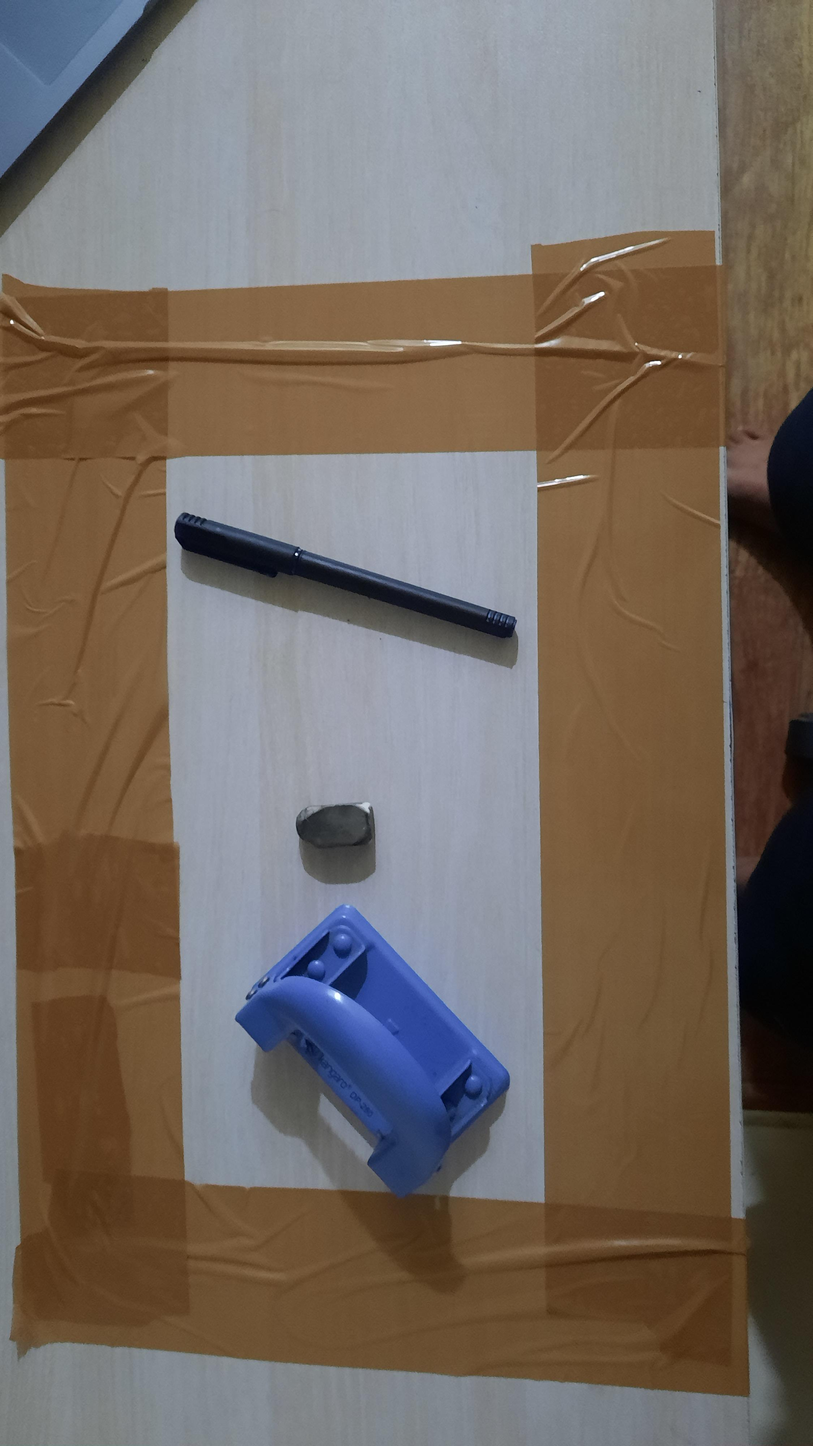Eraser: (295, 801, 375, 851)
Pen: (173, 512, 517, 638)
Punch: (233, 904, 511, 1199)
